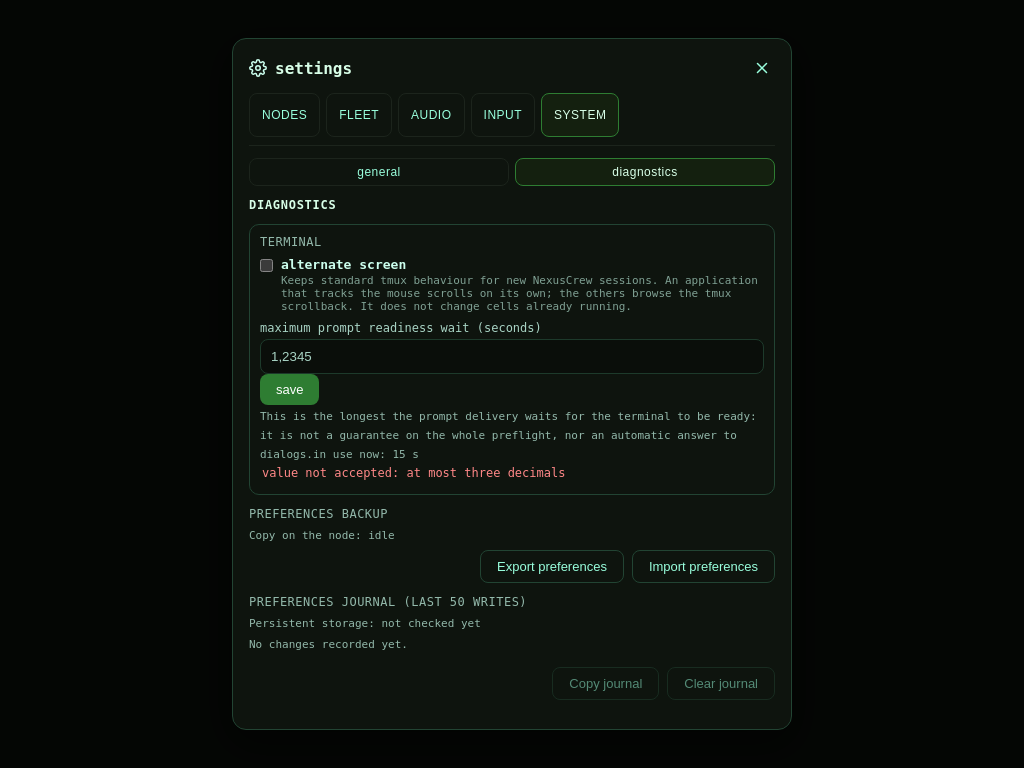
it: attesa di prontezza: il campo nella sezione Terminale › un valore fuori contratto non arriva al POST e dice perche
Earlier steps of the test are not shown.
Expected: the text "value not accepted: at most three decimals" is shown, [262,466,565,480]
Replace the text in the field labelled "maximum prompt readiness wait (seconds)" with "1.234,5" at (512, 357), box [260,339,764,374]
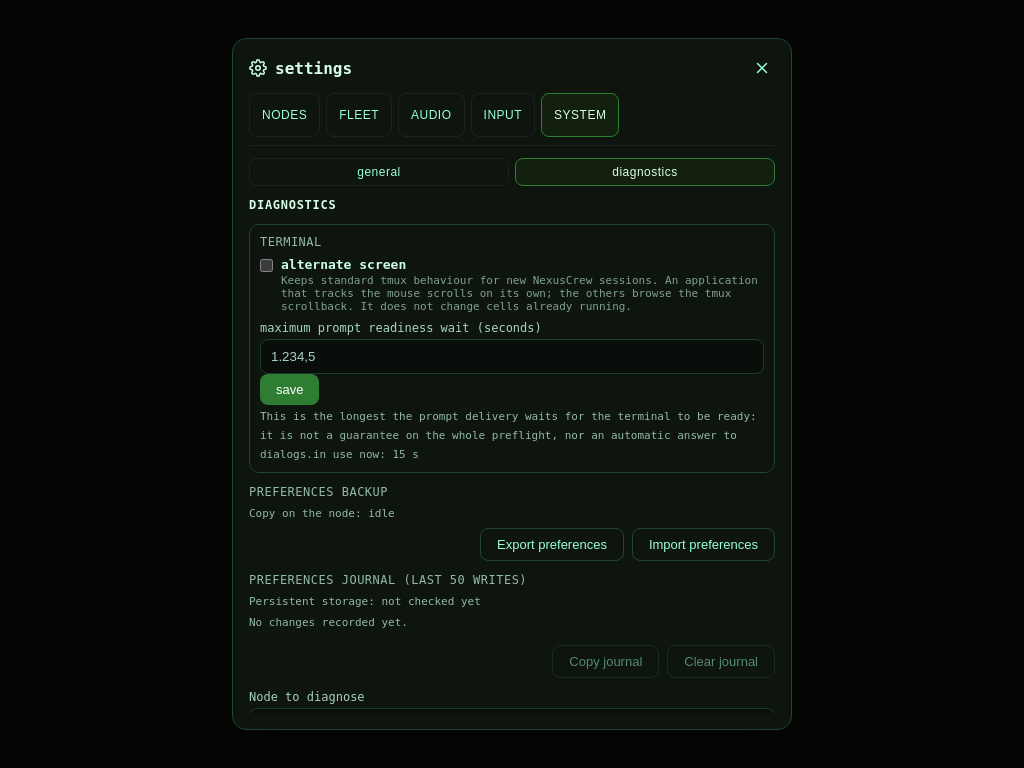
Click the button "save" at (290, 390), box [260,374,320,405]
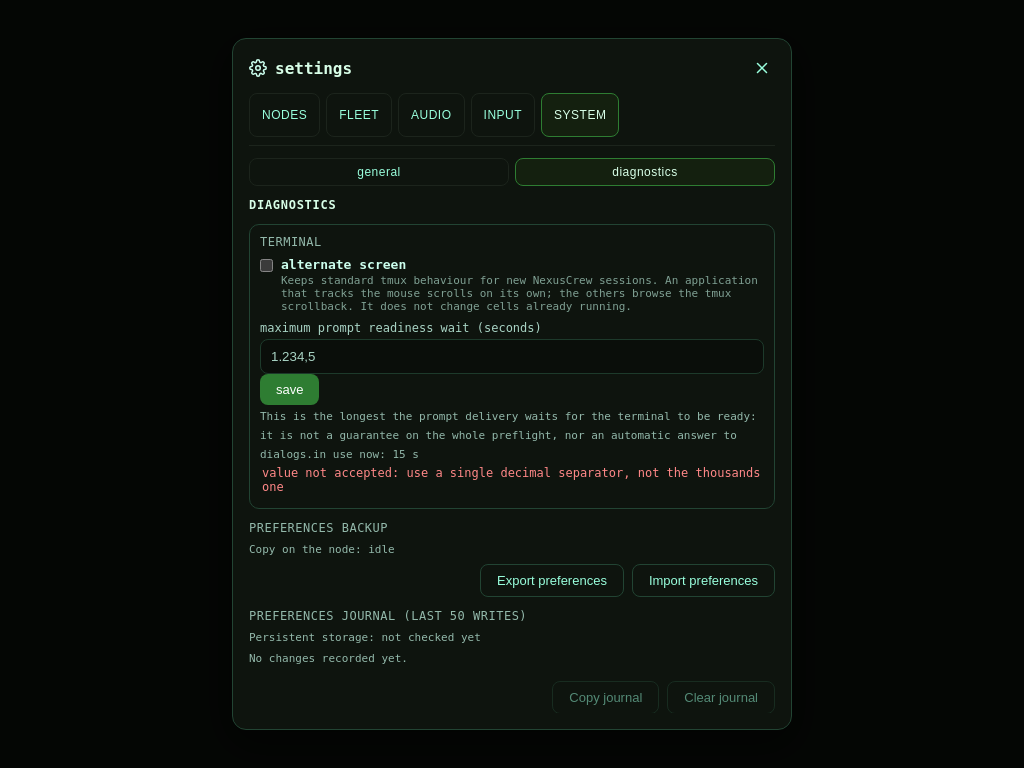
Expected: the text "single decimal separator" is shown, [262,466,760,494]
Replace the text in the field labelled "maximum prompt readiness wait (seconds)" with "500" at (512, 357), box [260,339,764,374]
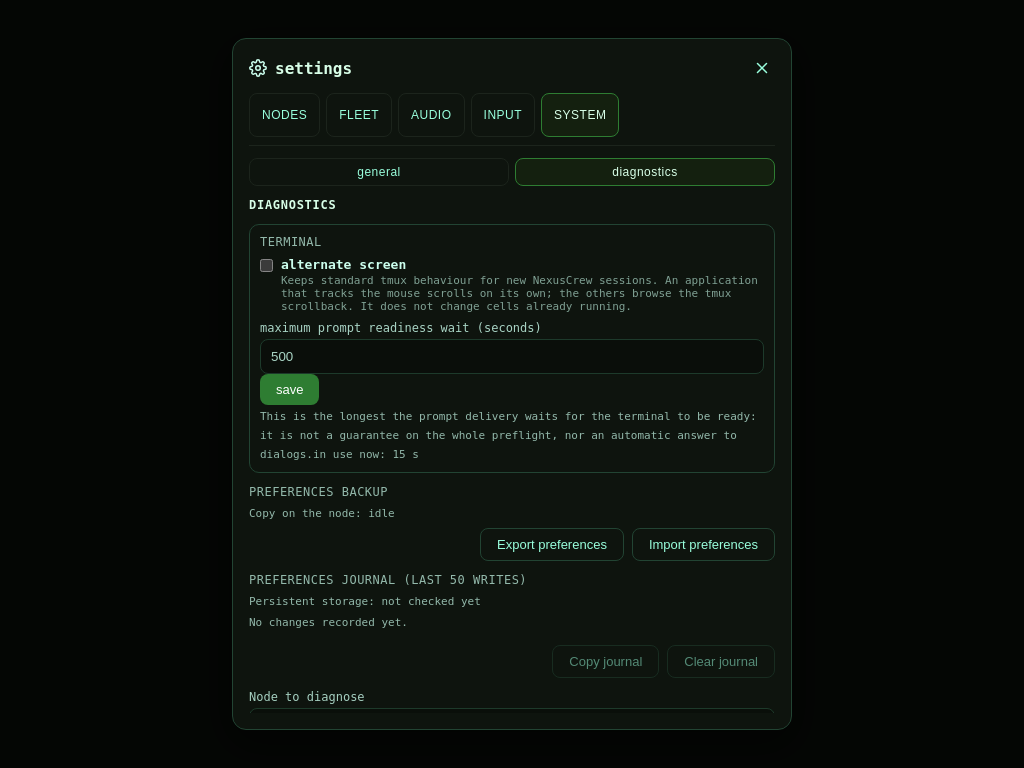
Click the button "save" at (290, 390), box [260,374,320,405]
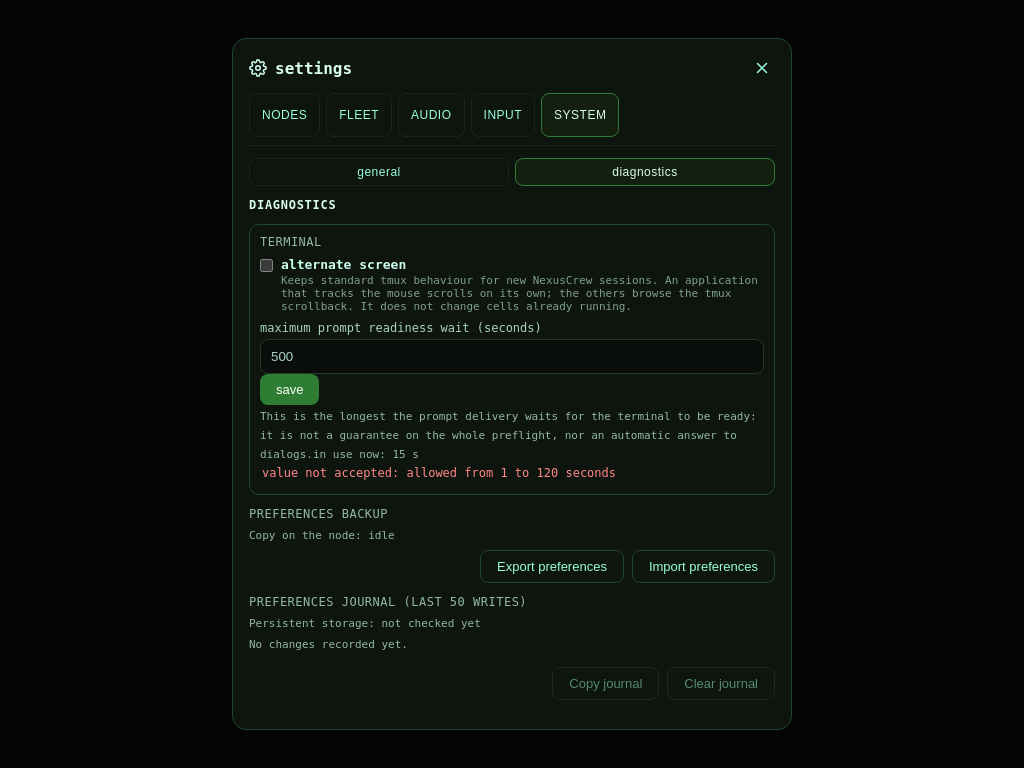
Expected: the text "value not accepted: allowed from 1 to 120 seconds" is shown, [262,466,616,480]
Clear the field labelled "maximum prompt readiness wait (seconds)" at (512, 357), box [260,339,764,374]
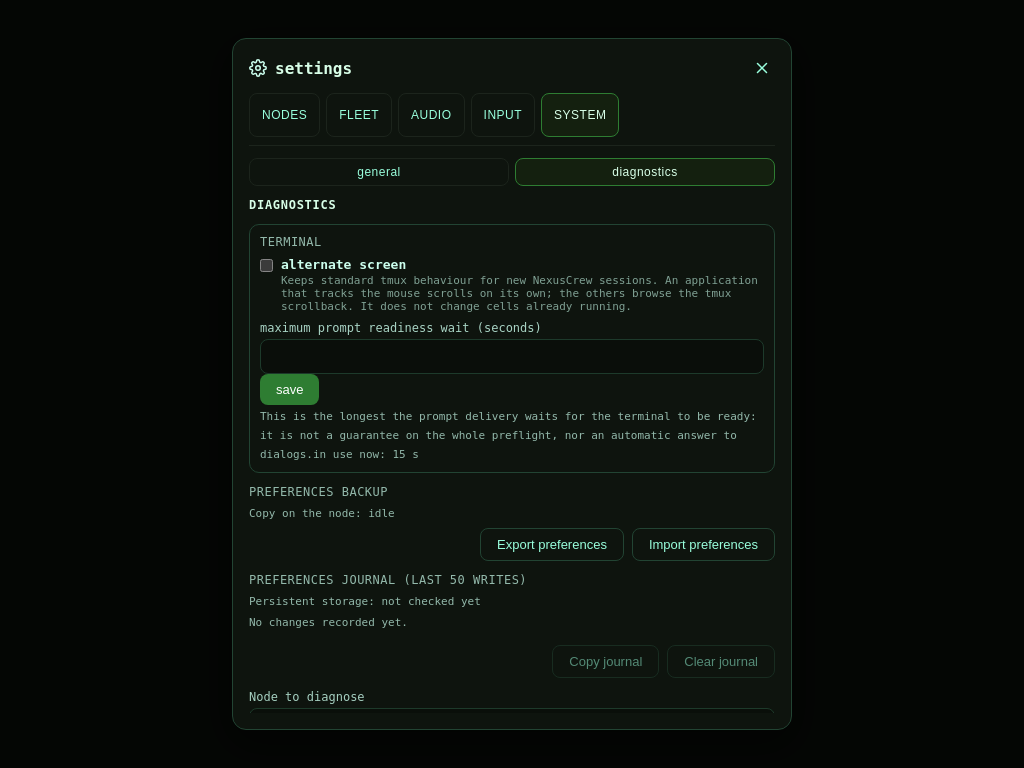
Click the button "save" at (290, 390), box [260,374,320,405]
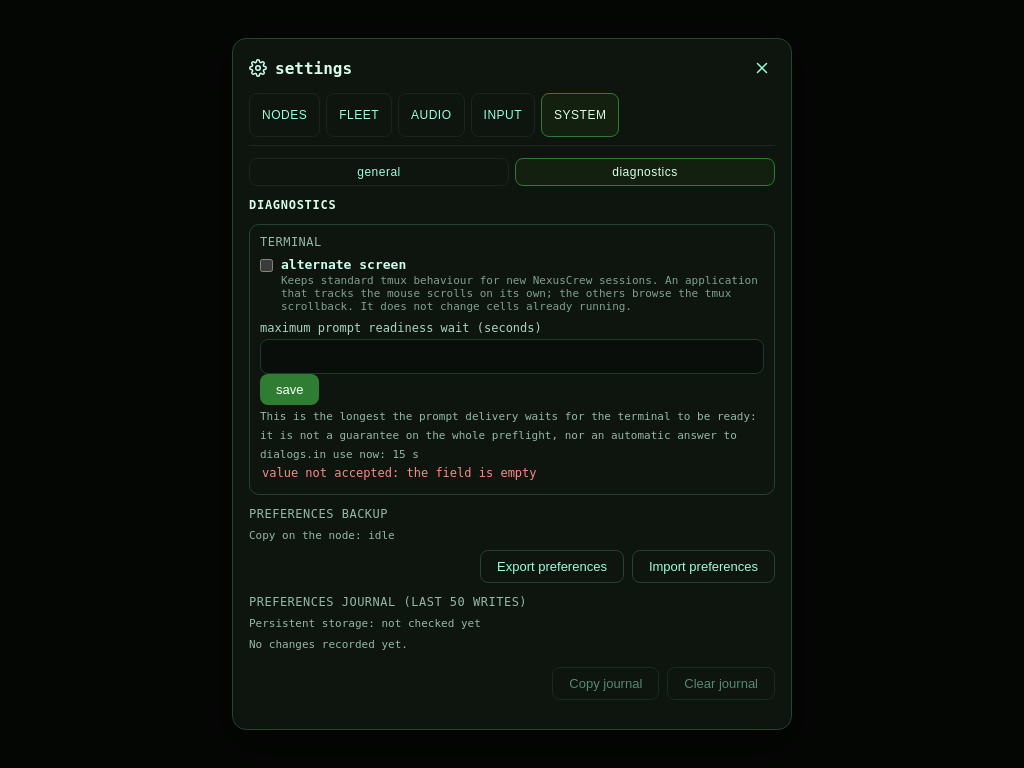
Expected: the text "value not accepted: the field is empty" is shown, [262,466,536,480]
